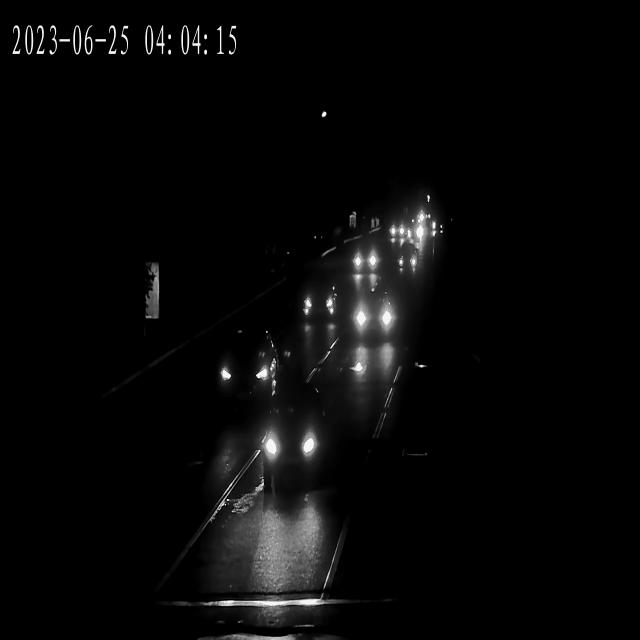Car: (253, 391, 330, 482), (208, 328, 278, 403), (351, 294, 400, 338), (298, 279, 336, 320), (347, 245, 380, 276), (396, 247, 421, 270), (386, 222, 406, 240), (386, 225, 405, 242)
